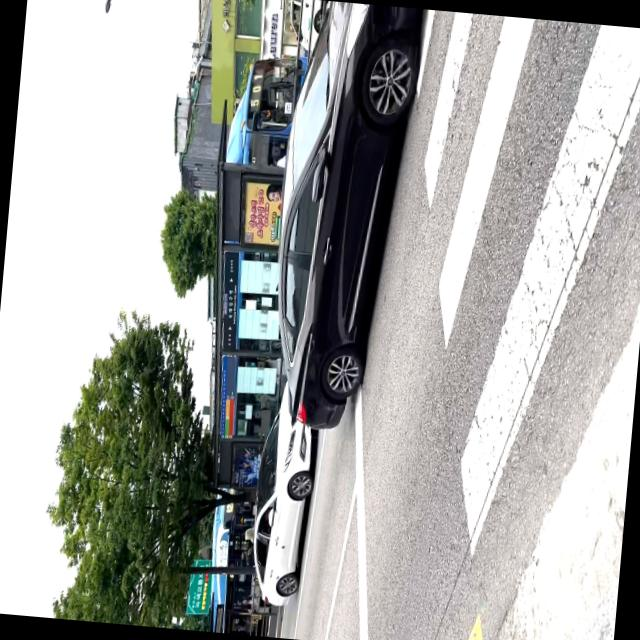building: (200, 0, 287, 130)
car: (261, 0, 424, 435), (245, 377, 323, 608)
